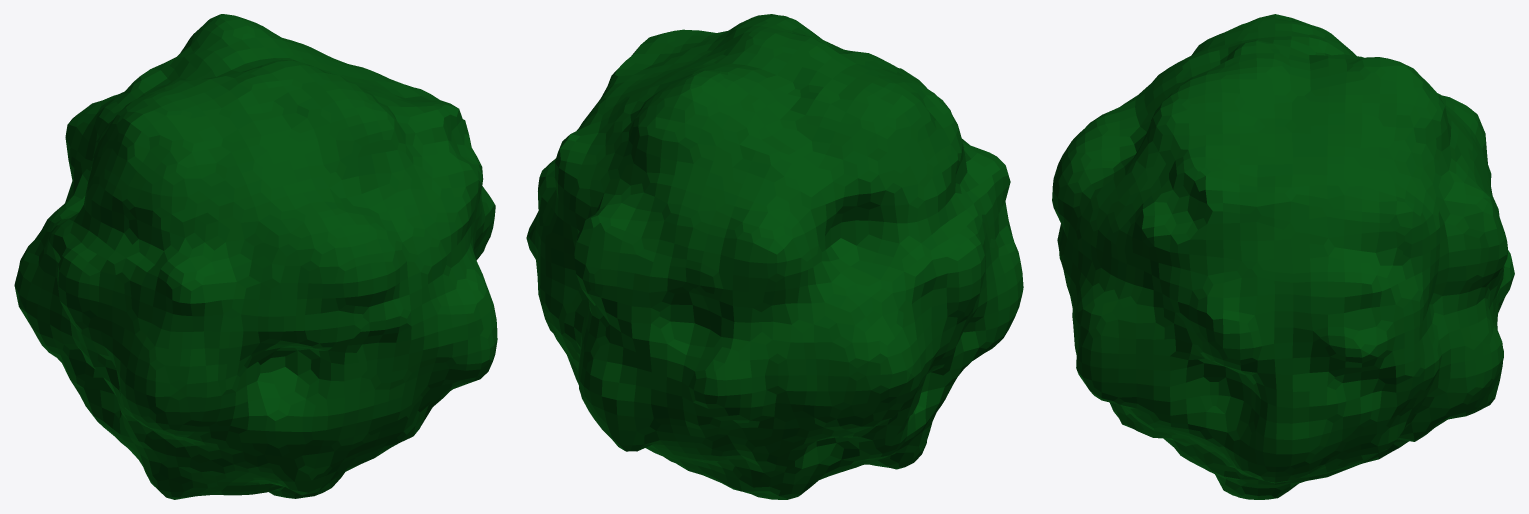
3 views of the same model, side by side, from view 1: azimuth 30°, elevation 25°; view 2: azimuth 150°, elevation 25°; view 3: azimuth 270°, elevation 25° (orthographic). The views are drawn at different scales.
Parts seen in each view (by area): view 1: Quad Sphere; view 2: Quad Sphere; view 3: Quad Sphere.
Part boxes in pixels (left/top/right/bottom): Quad Sphere: left=14, top=14, right=497, bottom=499; Quad Sphere: left=526, top=14, right=1023, bottom=499; Quad Sphere: left=1052, top=14, right=1514, bottom=499.
Size of the model in its own units: 2.67 by 2.74 by 2.65.
